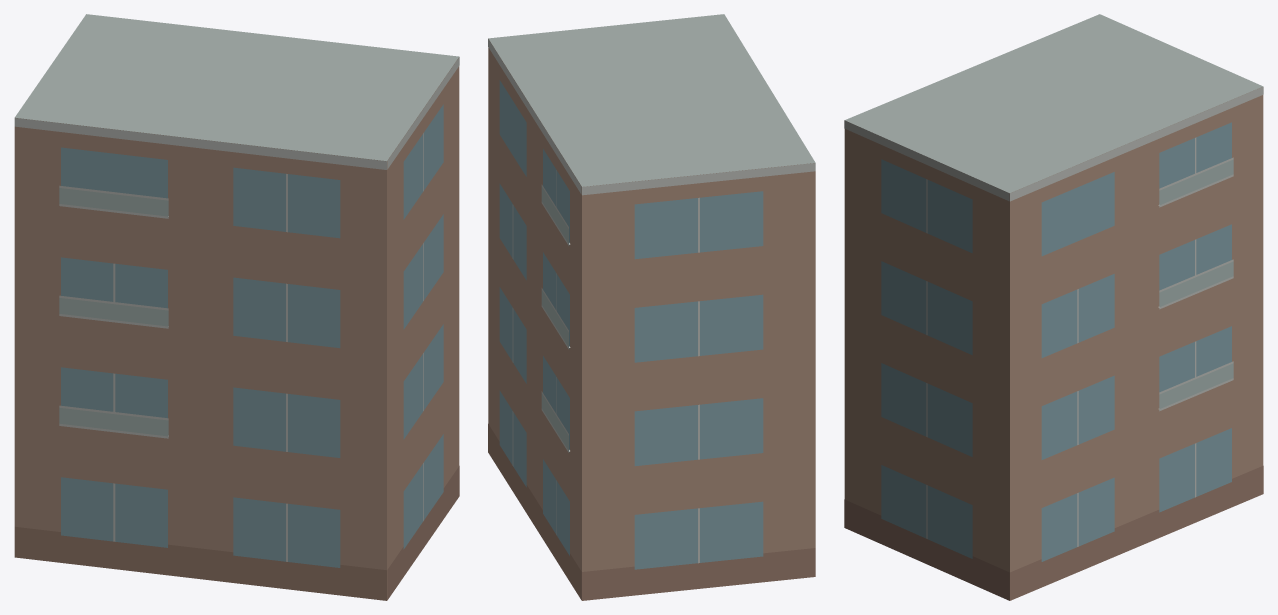
File: survey-upis-32784421.glb
3 views of the same model, side by side, from view 1: azimuth 30°, elevation 25°; view 2: azimuth 150°, elevation 25°; view 3: azimuth 270°, elevation 25° (orthographic). The views are drawn at different scales.
Parts seen in each view (by area): view 1: survey-upis-32784421.tmp; view 2: survey-upis-32784421.tmp; view 3: survey-upis-32784421.tmp.
Boxes of the visible parts, x1,y1,x2,y2 form: survey-upis-32784421.tmp: [14, 14, 459, 600]; survey-upis-32784421.tmp: [488, 14, 815, 600]; survey-upis-32784421.tmp: [844, 14, 1263, 600].
Size of the model in its own units: 11.33 by 12 by 11.19.
